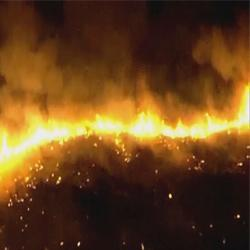fire: (29, 118, 118, 143), (132, 118, 227, 139), (4, 133, 23, 168), (238, 92, 250, 128)
smoke: (14, 34, 124, 101)
